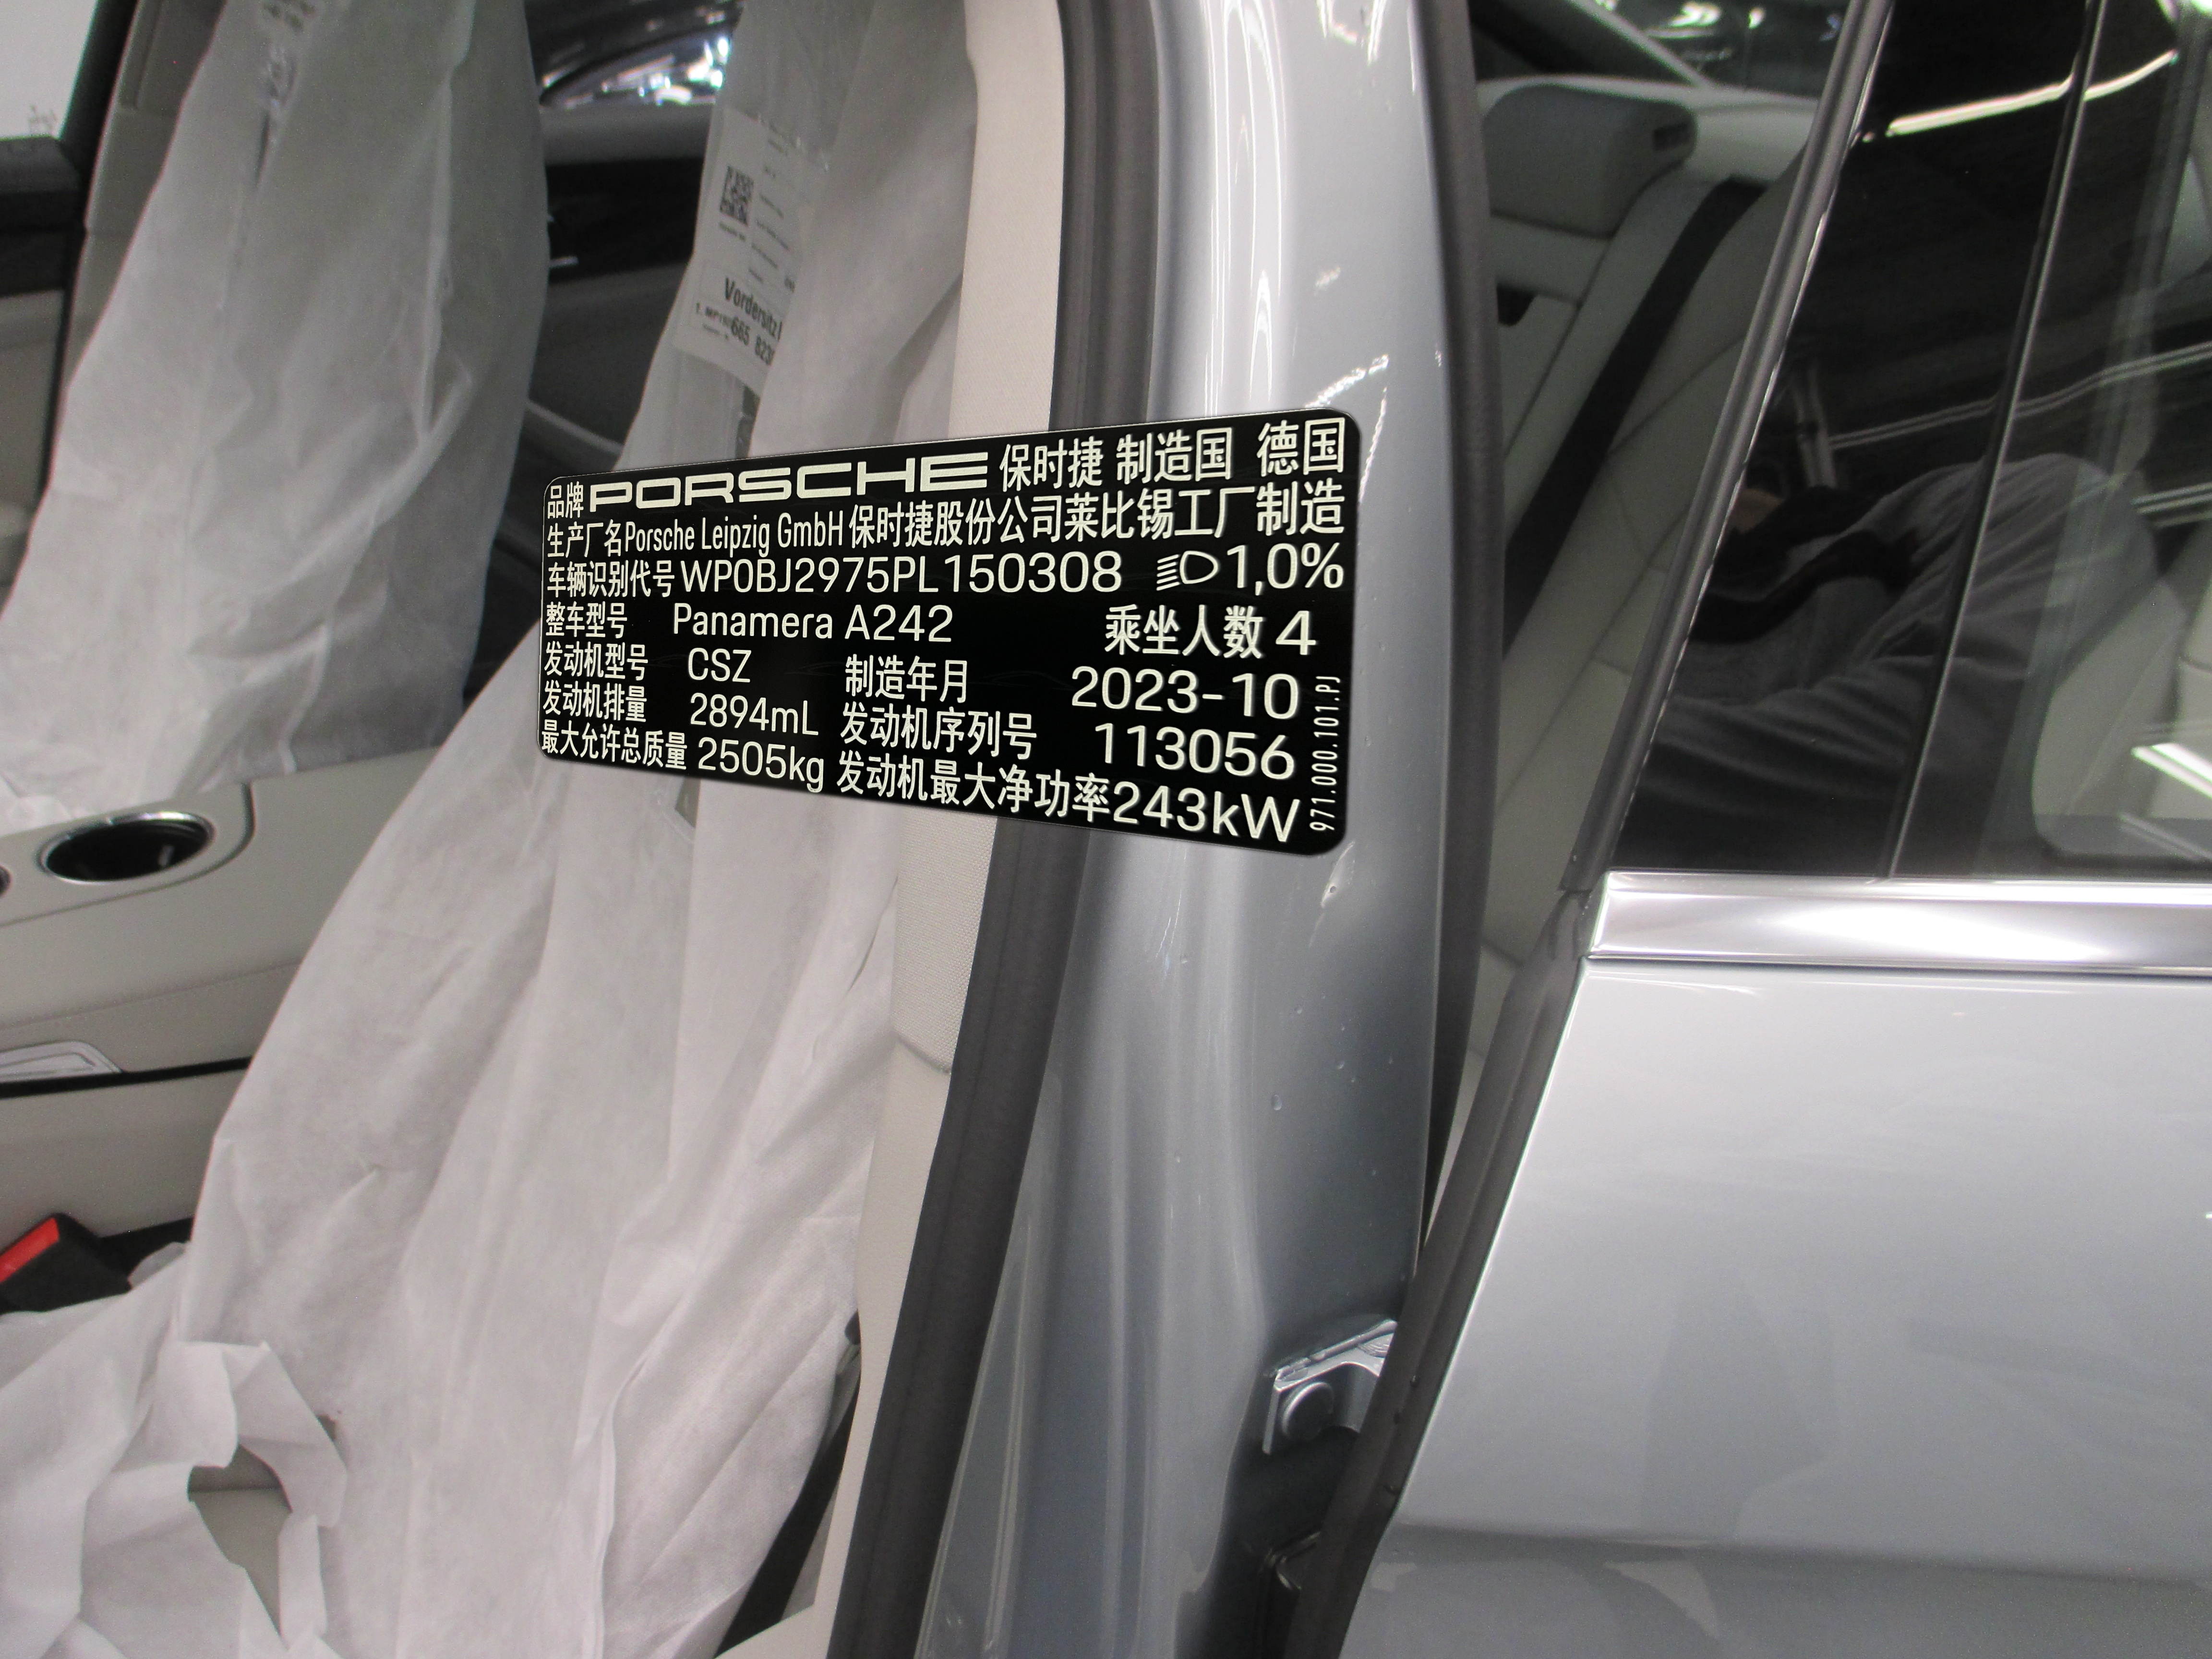Typlabel-China: (538, 408, 1360, 856)
